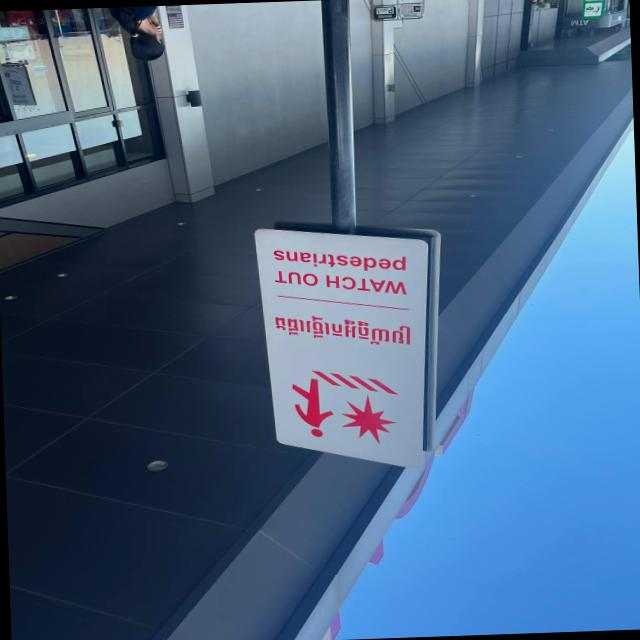Yolov11_80vkh: (270, 310, 411, 353)
